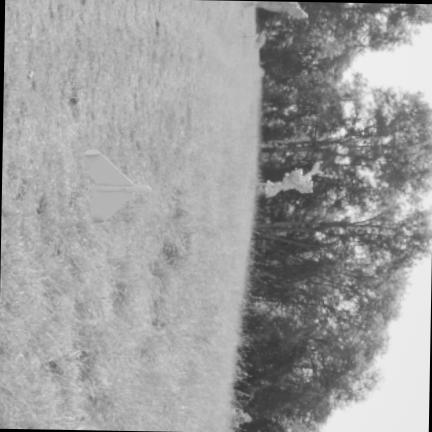Shahed: (83, 149, 149, 223)
